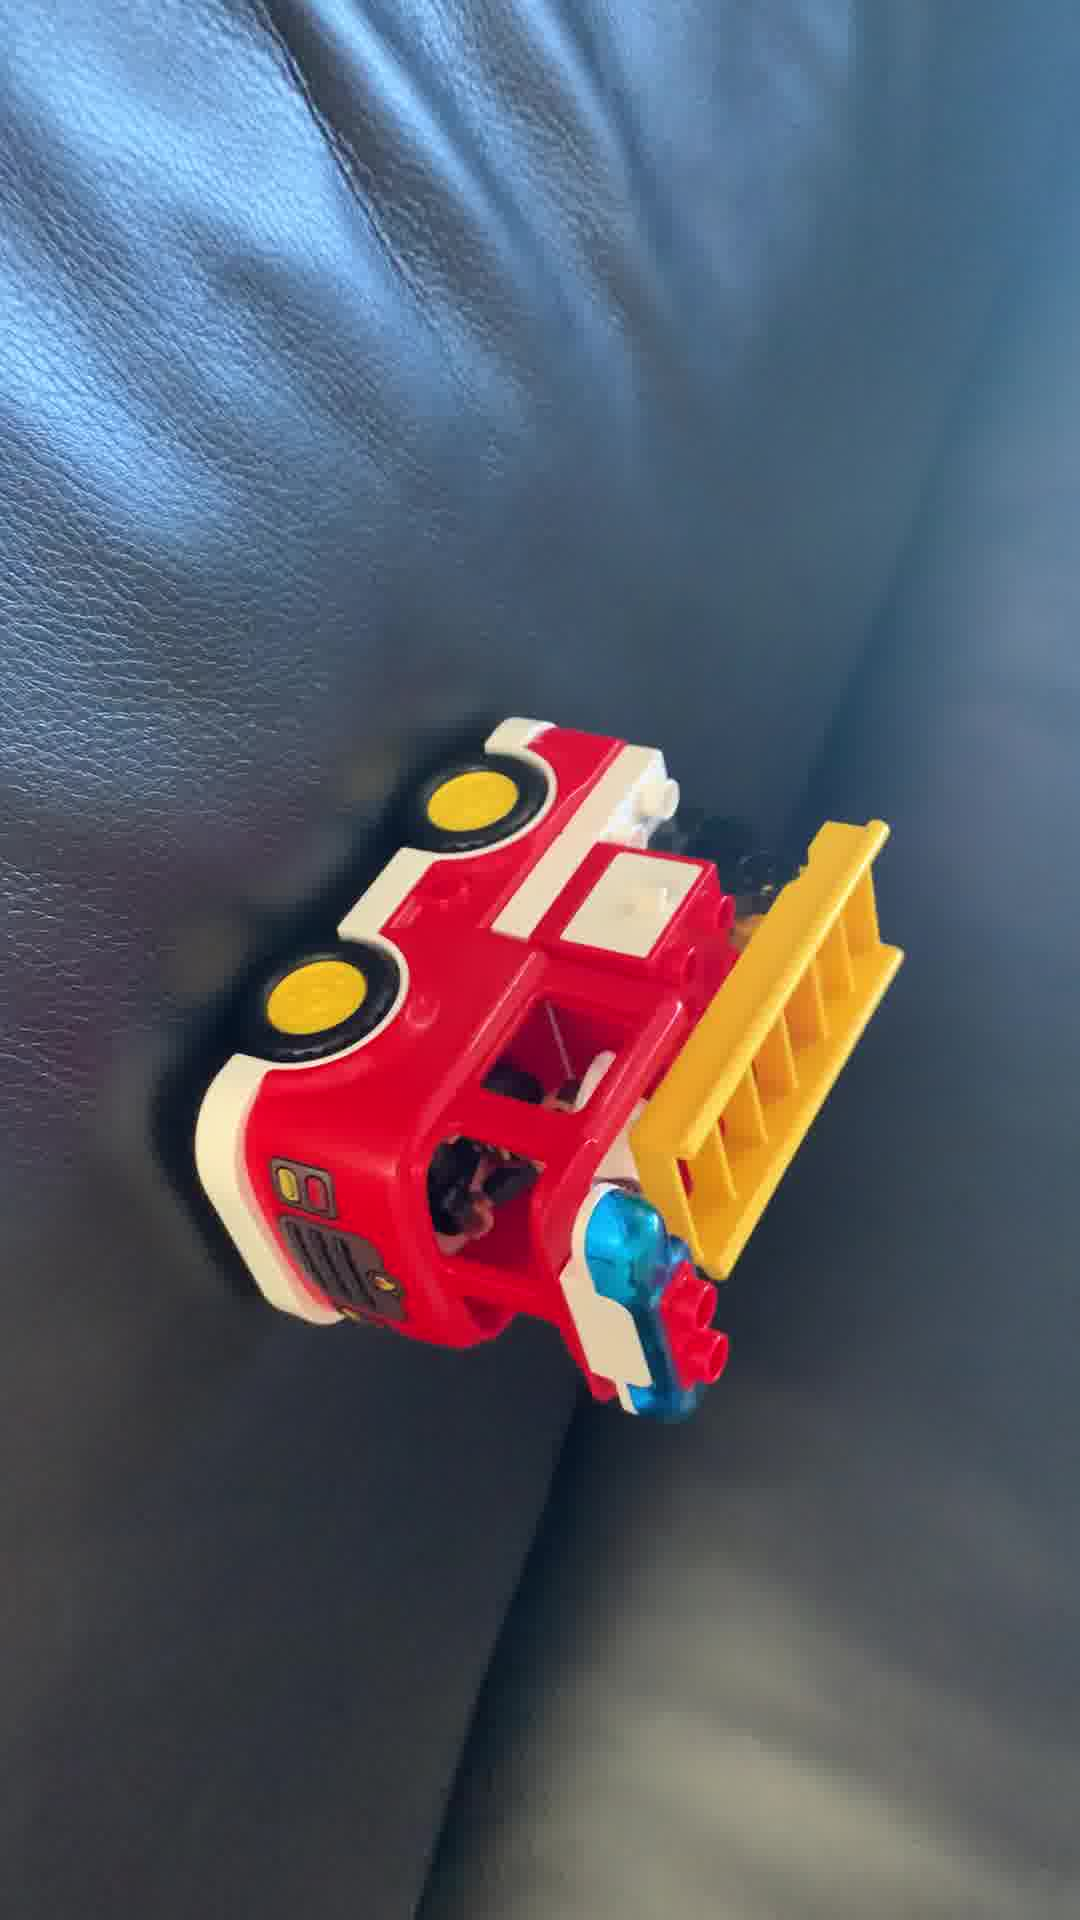lego fire truck: (185, 694, 915, 1432)
